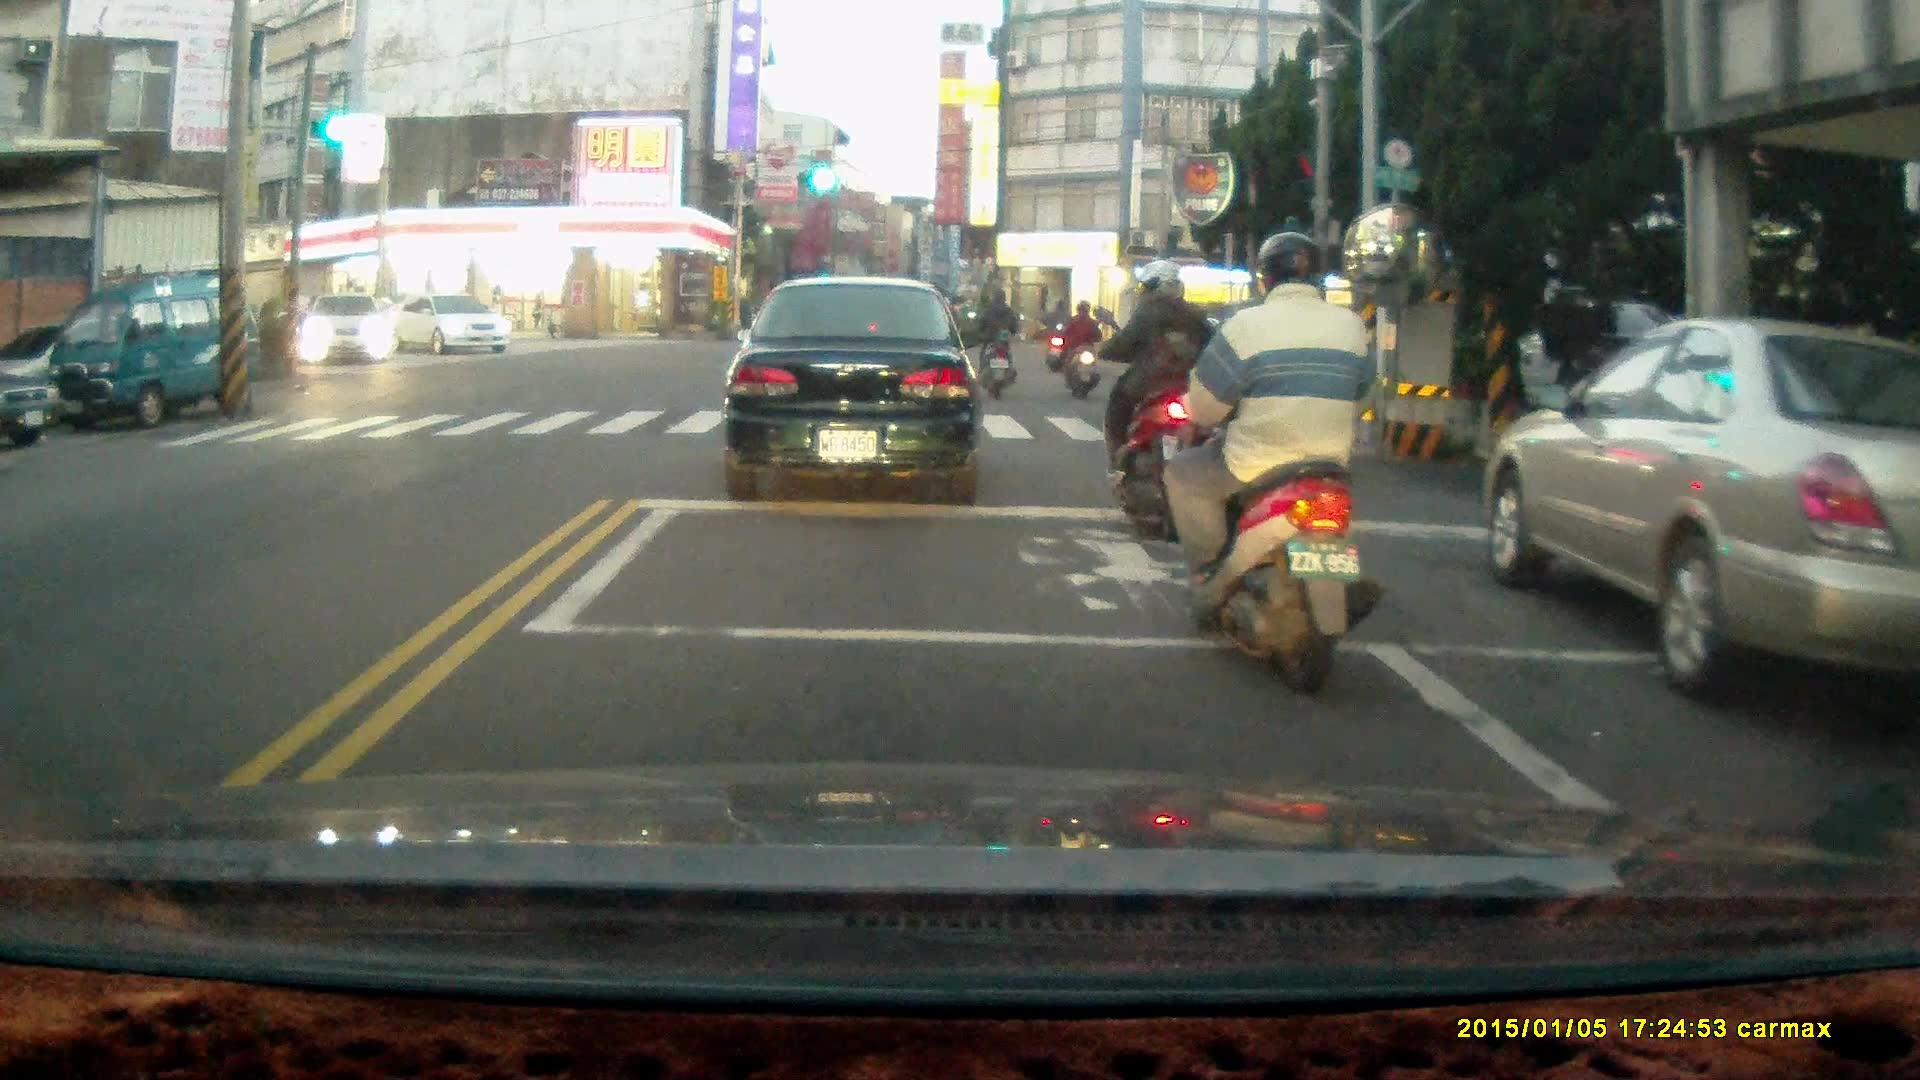rider: (1170, 230, 1391, 700), (1085, 257, 1221, 541), (965, 283, 1026, 397), (1059, 300, 1103, 400), (1041, 298, 1072, 373)
vehicle: (1480, 312, 1920, 716), (717, 275, 985, 506), (44, 263, 252, 431), (389, 291, 513, 361), (298, 297, 400, 373)
